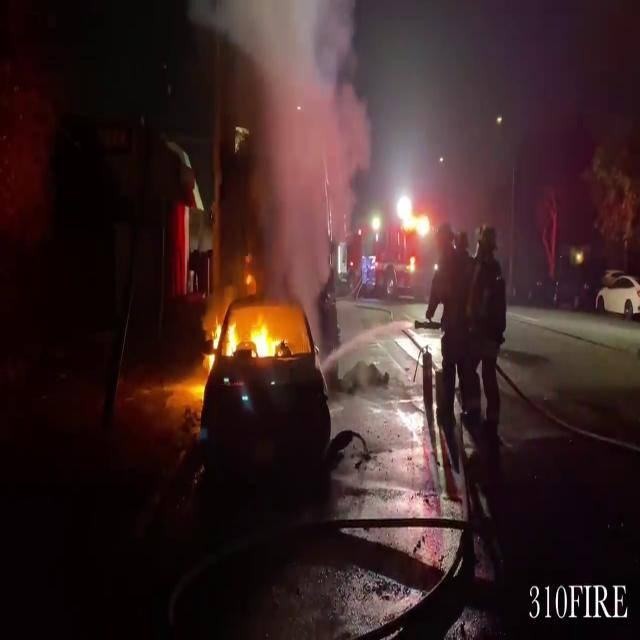Fire: (208, 303, 288, 369)
Smoke: (217, 0, 363, 290)
